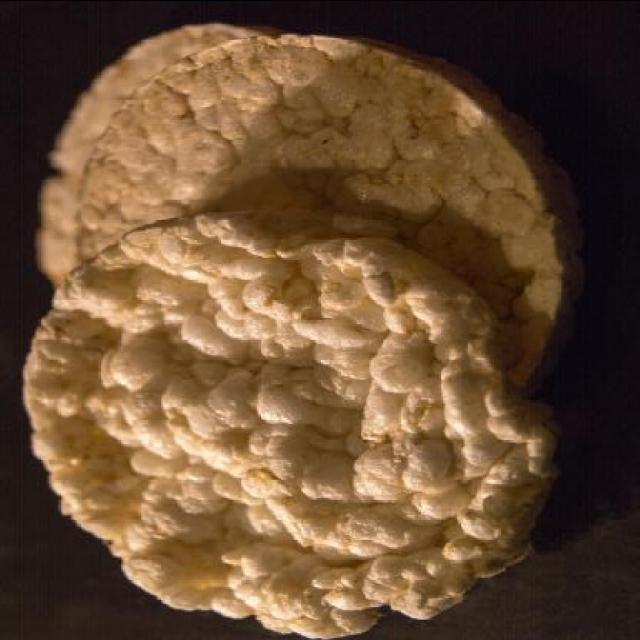Gallette di riso packaged: (21, 14, 572, 634)
